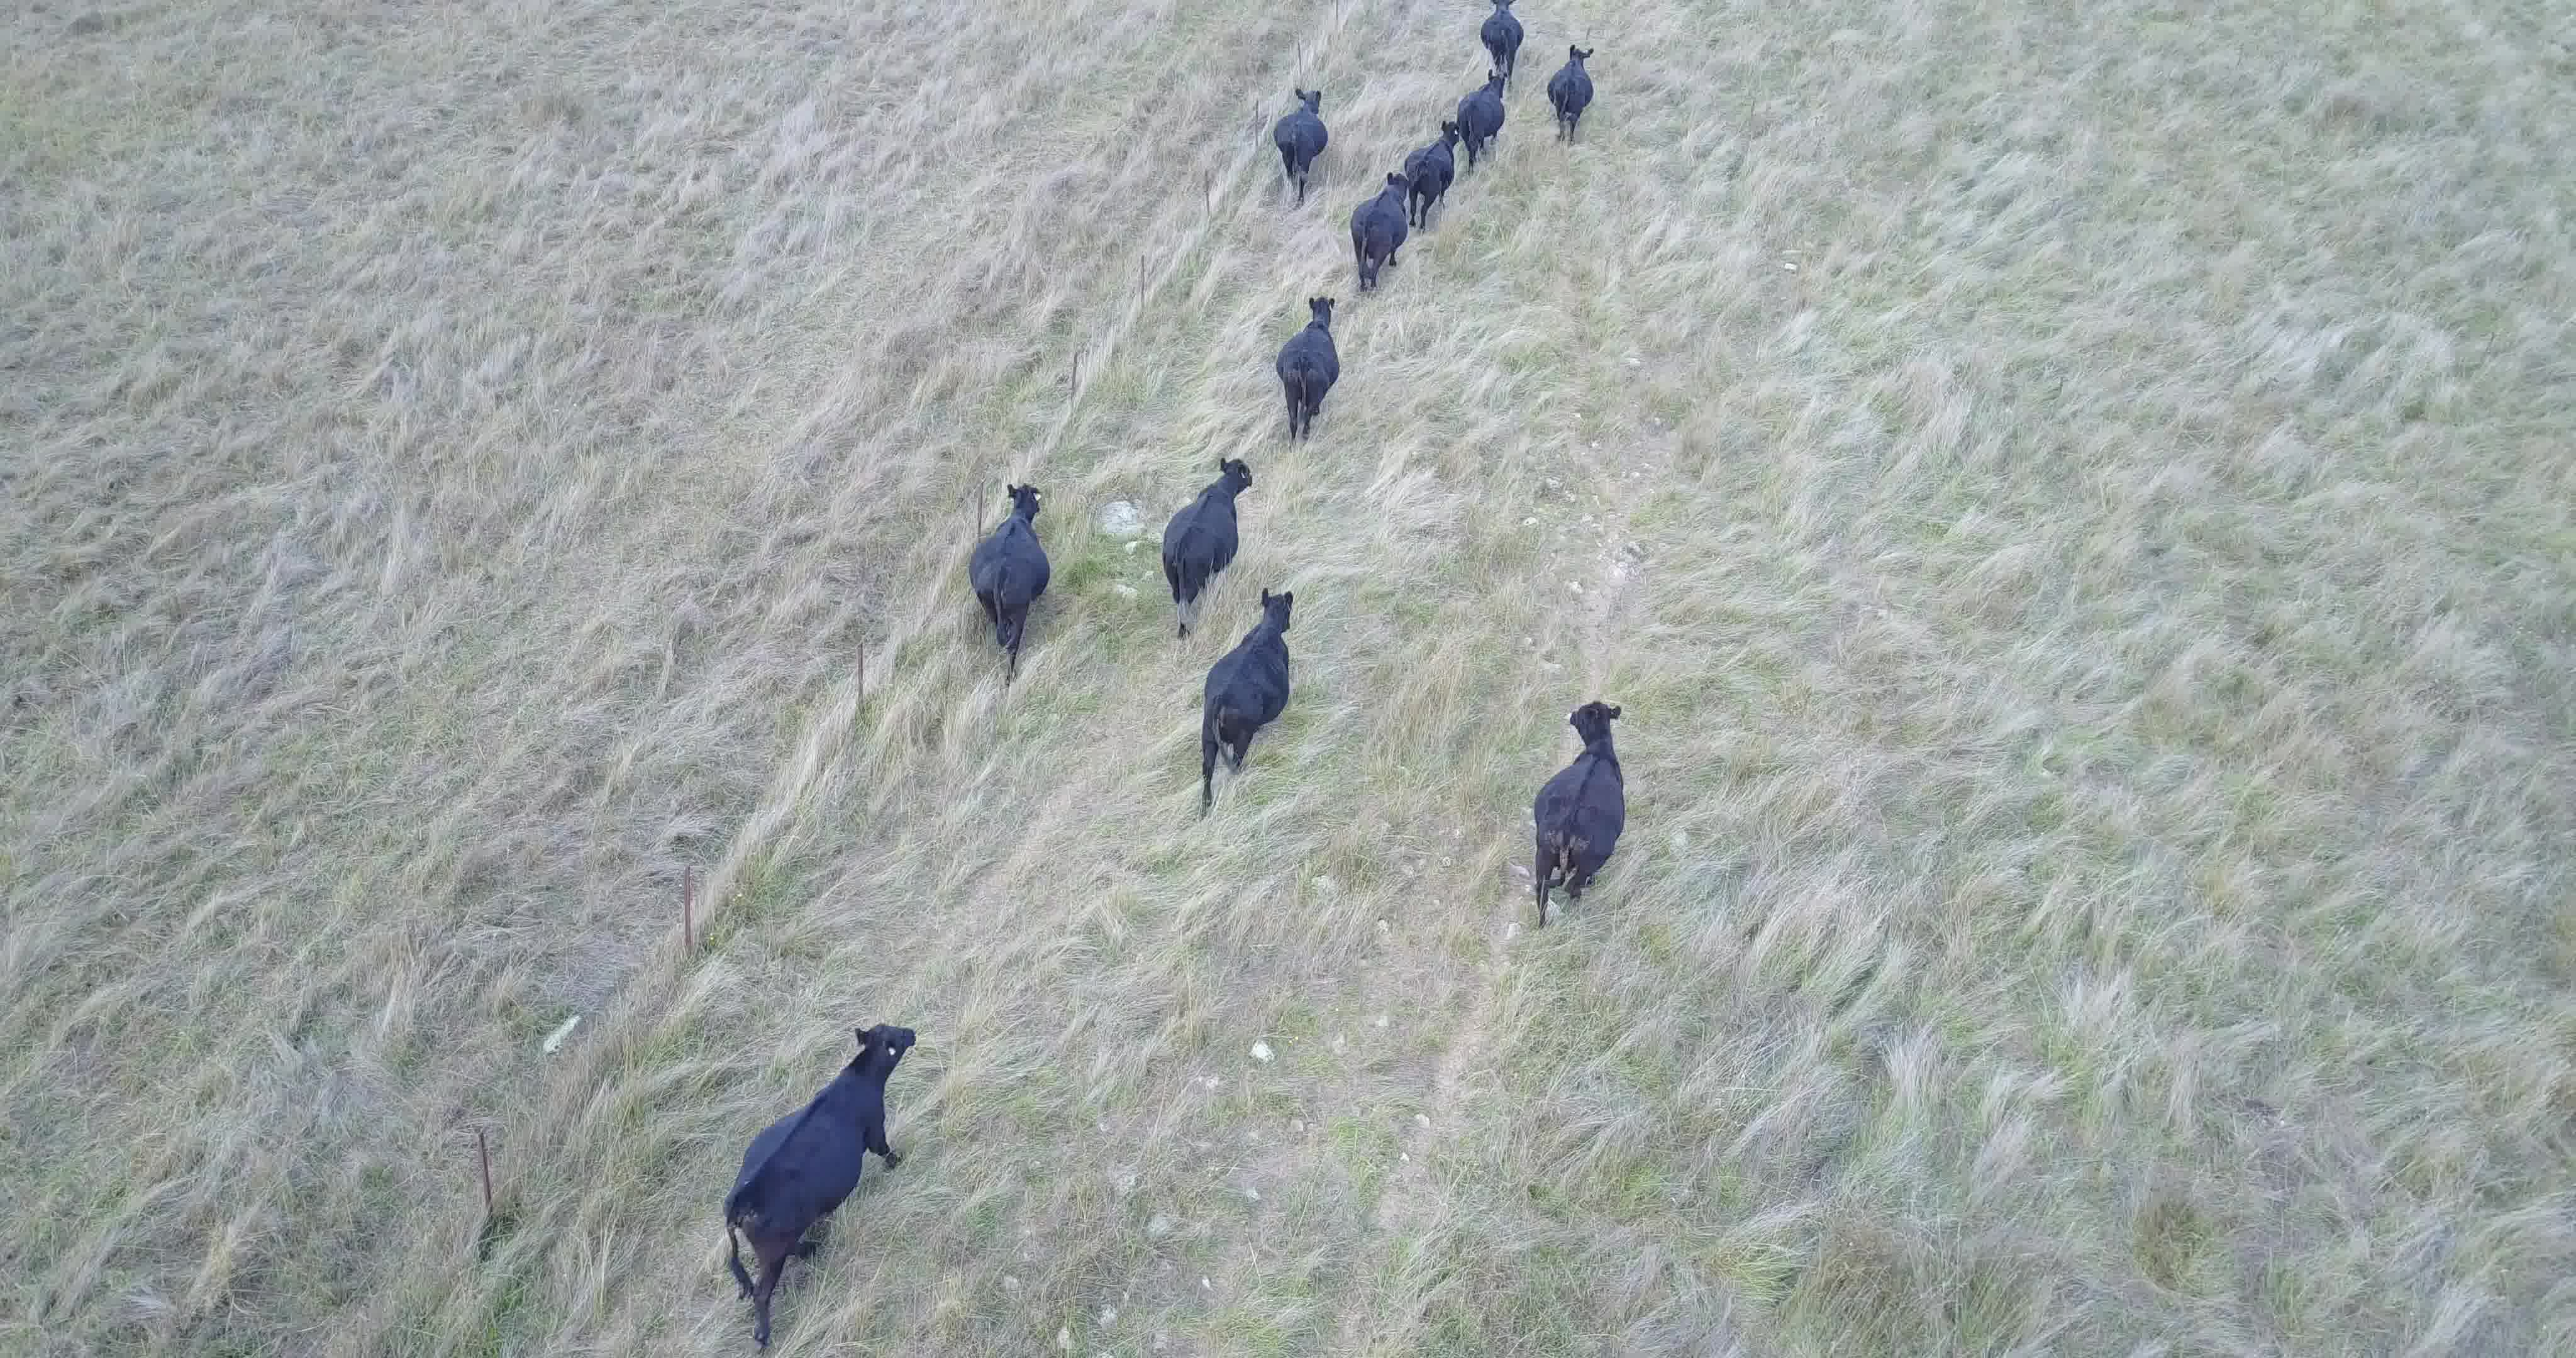cattle: (707, 1017, 927, 1351), (1527, 695, 1629, 935), (1194, 588, 1297, 818), (1157, 453, 1259, 641), (966, 480, 1056, 678), (1274, 295, 1344, 445), (1344, 170, 1412, 302), (1271, 87, 1331, 206), (1402, 119, 1462, 233), (1455, 70, 1513, 169), (1547, 41, 1598, 150), (1475, 2, 1528, 77)
